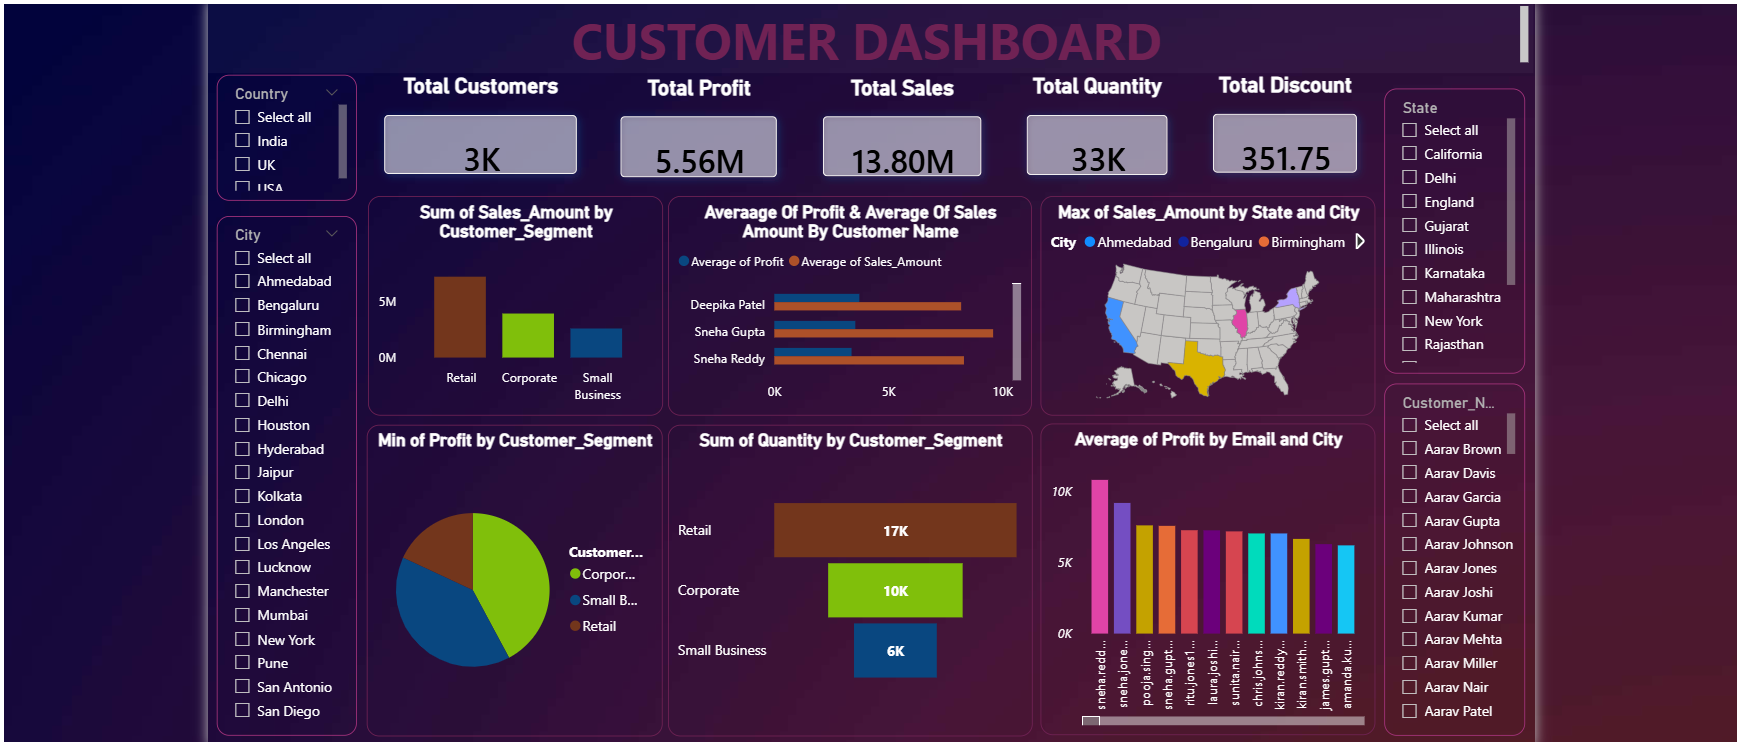

The page's visual inventory and layout, read from the dashboard file:
{"tool":"powerbi","page":{"name":"Customer Dashboard","canvas":[1280,720],"ordinal":0},"visuals":[{"type":"cardVisual","title":"Total Customers","fields":{"Data":["CountNonNull(Customers.Customer_ID)"]},"box":[153.6,70.1,220.4,114.7],"z":0},{"type":"textbox","box":[0,0,1279.6,69.4],"z":1000},{"type":"cardVisual","title":"Total Profit","fields":{"Data":["Sum(Order_Details.Profit)"]},"box":[381.8,71.2,185.9,116.9],"z":2000},{"type":"cardVisual","title":"Total Sales","fields":{"Data":["Sum(Order_Details.Sales_Amount)"]},"box":[576.6,71.2,187,115.8],"z":3000},{"type":"lineClusteredColumnComboChart","fields":{"Category":["Customers.Customer_Segment"],"Y":["Sum(Order_Details.Sales_Amount)"]},"box":[154.4,188.2,284.7,212.3],"z":4000},{"type":"pieChart","fields":{"Y":["Min(Order_Details.Profit)"],"Category":["Customers.Customer_Segment"]},"box":[153.8,408.9,285.4,300.5],"z":5000},{"type":"shapeMap","fields":{"Category":["Customers.State"],"Value":["Max(Order_Details.Sales_Amount)"],"Series":["Customers.City"]},"box":[803.5,188.2,323.3,212.3],"z":6000},{"type":"clusteredBarChart","title":"Averaage Of Profit & Average Of Sales Amount By Customer Name","fields":{"Category":["Customers.Customer_Name"],"Y":["Avg(Order_Details.Profit)","Avg(Order_Details.Sales_Amount)"]},"box":[444,188.2,351.1,212.3],"z":7000},{"type":"funnel","fields":{"Category":["Customers.Customer_Segment"],"Y":["Sum(Order_Details.Quantity)"]},"box":[443.8,408.9,351.8,300.5],"z":8000},{"type":"lineStackedColumnComboChart","fields":{"Category":["Customers.Email"],"Y":["Avg(Order_Details.Profit)"],"Series":["Customers.City"]},"box":[803.5,408.1,323.3,301.2],"z":9000},{"type":"slicer","fields":{"Values":["Customers.Customer_Name"]},"box":[1135.3,369.2,136.3,340.2],"z":10000},{"type":"cardVisual","title":"Total Quantity","fields":{"Data":["Sum(Order_Details.Quantity)"]},"box":[773.7,70.1,170.3,115.8],"z":11000},{"type":"slicer","fields":{"Values":["Customers.City"]},"box":[8.4,207.5,135.1,501.9],"z":12000},{"type":"slicer","fields":{"Values":["Customers.Country"]},"box":[8.4,71.2,135.1,121.9],"z":13000},{"type":"cardVisual","title":"Total Discount","fields":{"Data":["Sum(Order_Details.Discount)"]},"box":[952.9,69,173.7,114.7],"z":14000},{"type":"slicer","fields":{"Values":["Customers.State"]},"box":[1135.3,84.5,136.3,275.1],"z":15000}]}

Visuals, with their boxes on the page's 1280x720 design canvas (x1, y1, x2, y2). These are canvas units, not pixel positions in the 1741x746 screenshot, which may show the page scaled, cropped or inside an application window:
"Total Customers" cardVisual: (154, 70, 374, 185)
textbox: (0, 0, 1280, 69)
"Total Profit" cardVisual: (382, 71, 568, 188)
"Total Sales" cardVisual: (577, 71, 764, 187)
lineClusteredColumnComboChart - Customers.Customer_Segment x Sum(Order_Details.Sales_Amount): (154, 188, 439, 400)
pieChart - Min(Order_Details.Profit) x Customers.Customer_Segment: (154, 409, 439, 709)
shapeMap - Customers.State x Max(Order_Details.Sales_Amount): (804, 188, 1127, 400)
"Averaage Of Profit & Average Of Sales Amount By Customer Name" clusteredBarChart: (444, 188, 795, 400)
funnel - Customers.Customer_Segment x Sum(Order_Details.Quantity): (444, 409, 796, 709)
lineStackedColumnComboChart - Customers.Email x Avg(Order_Details.Profit): (804, 408, 1127, 709)
slicer - Customers.Customer_Name: (1135, 369, 1272, 709)
"Total Quantity" cardVisual: (774, 70, 944, 186)
slicer - Customers.City: (8, 208, 144, 709)
slicer - Customers.Country: (8, 71, 144, 193)
"Total Discount" cardVisual: (953, 69, 1127, 184)
slicer - Customers.State: (1135, 84, 1272, 360)
